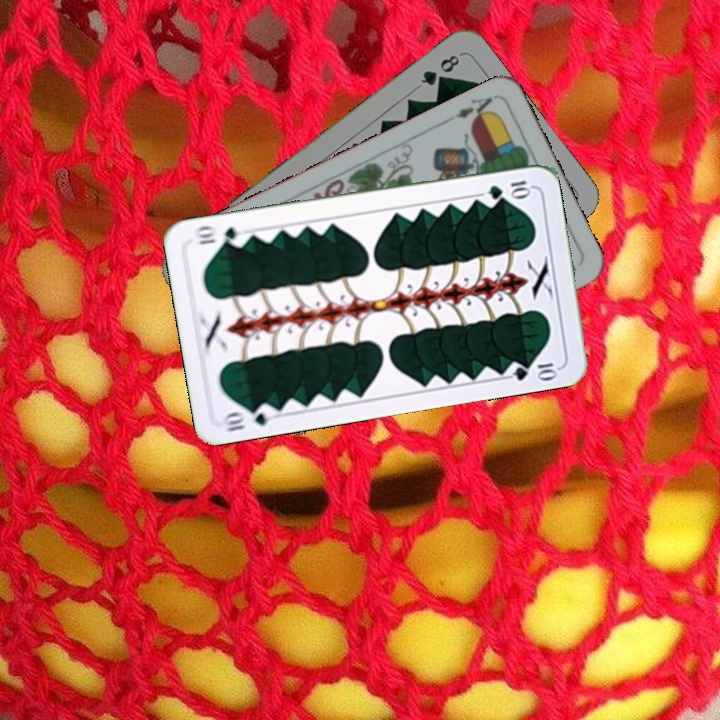EA: (443, 93, 497, 126)
G10: (219, 400, 278, 435), (484, 176, 533, 202)
G8: (416, 50, 463, 89)
